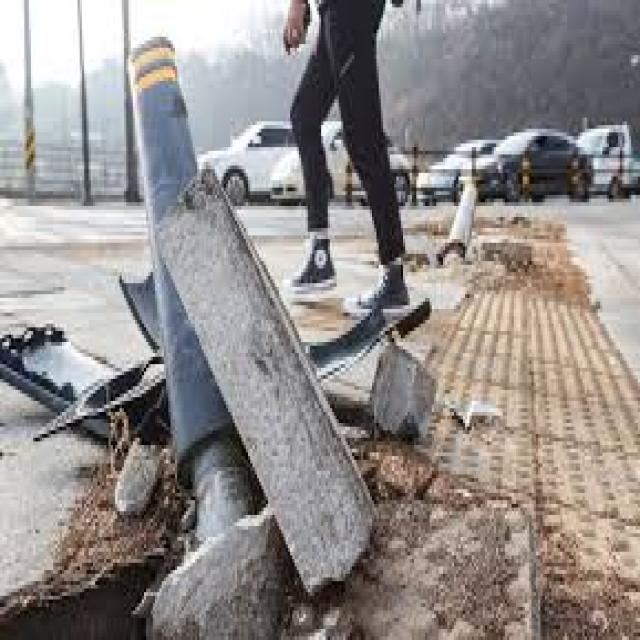bollard: (120, 26, 378, 614), (442, 170, 482, 264)
